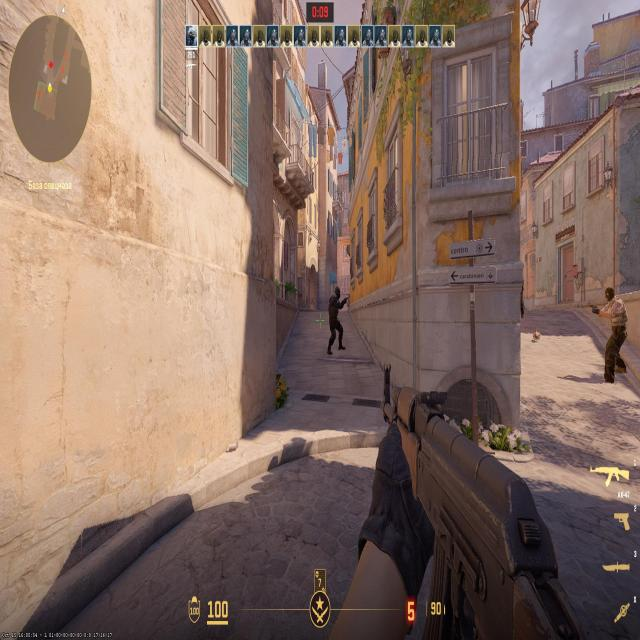CT: (330, 288, 340, 354)
CT_heat: (333, 295, 338, 308)
T: (604, 291, 626, 367)
T_heat: (607, 295, 620, 314)
